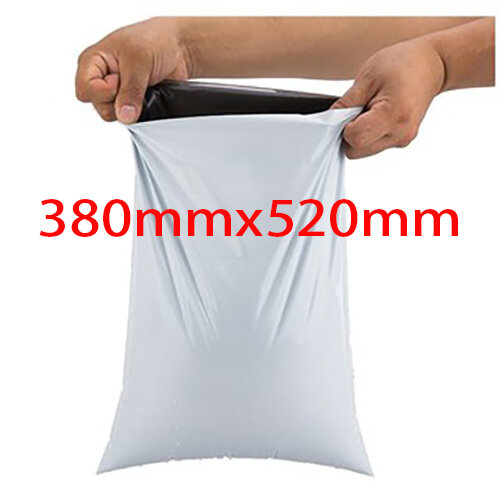塑料袋: (98, 82, 371, 475)
